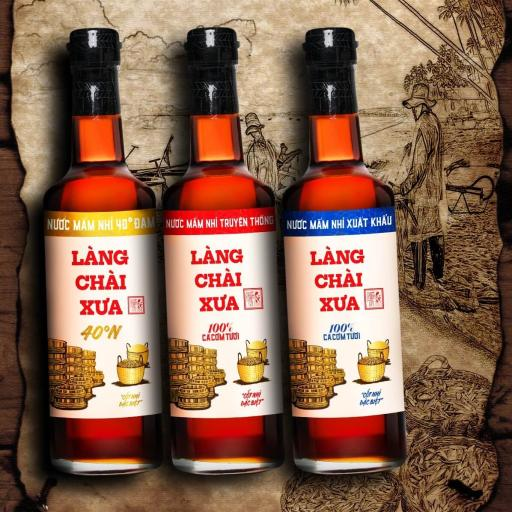bottle: (283, 27, 406, 473), (163, 27, 283, 473), (44, 27, 163, 474)
